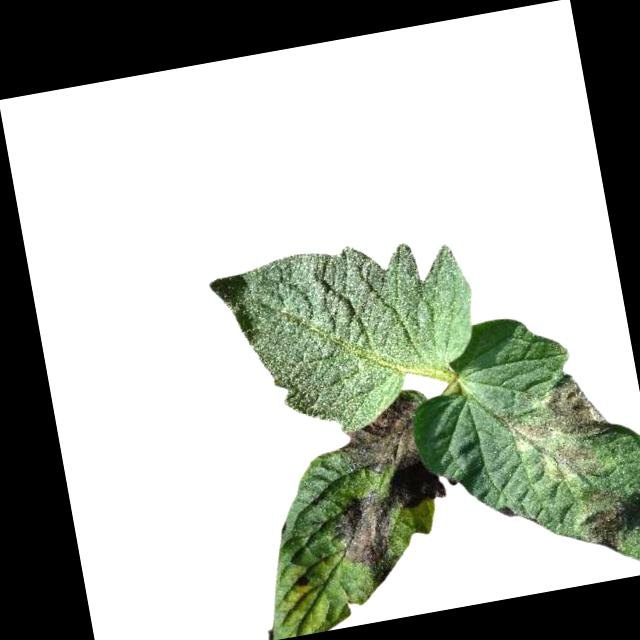Late_blight: (321, 461, 457, 575), (506, 368, 610, 446), (341, 397, 426, 479), (575, 495, 630, 560), (539, 430, 602, 484)
